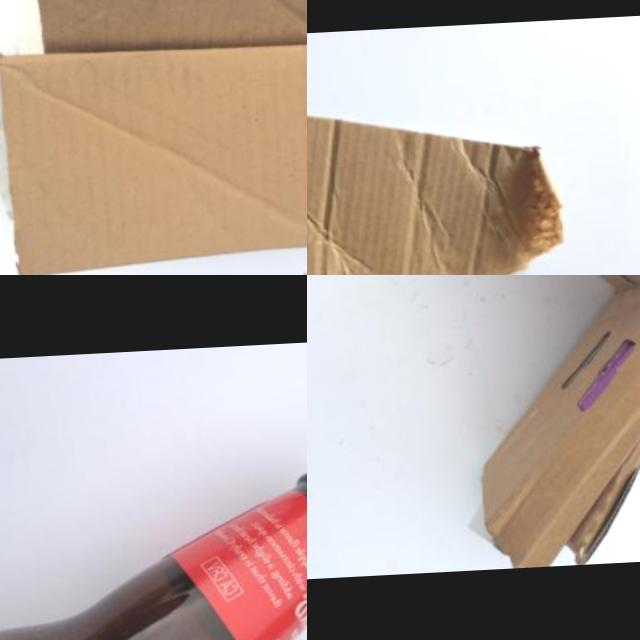garrafa de vidro: (0, 439, 307, 640)
papelão: (0, 0, 307, 275), (394, 275, 640, 573), (307, 82, 573, 275)
